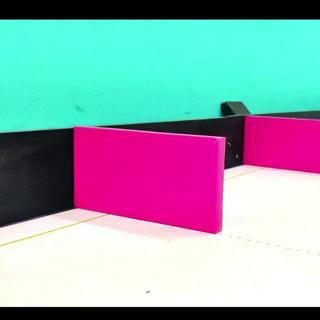xparking: (79, 145, 218, 233), (249, 122, 315, 171)
